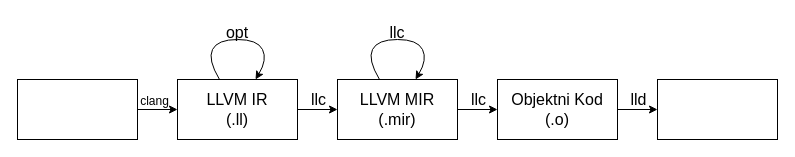
Image size: 795x157. Some labels were removed from this diagram. Here are the shapes that lost their labels. From the top down, the box of each, then its label:
(16, 78, 138, 140): Izvorni kod (.cpp, .h)
(656, 78, 778, 140): Izvršni Fajl
